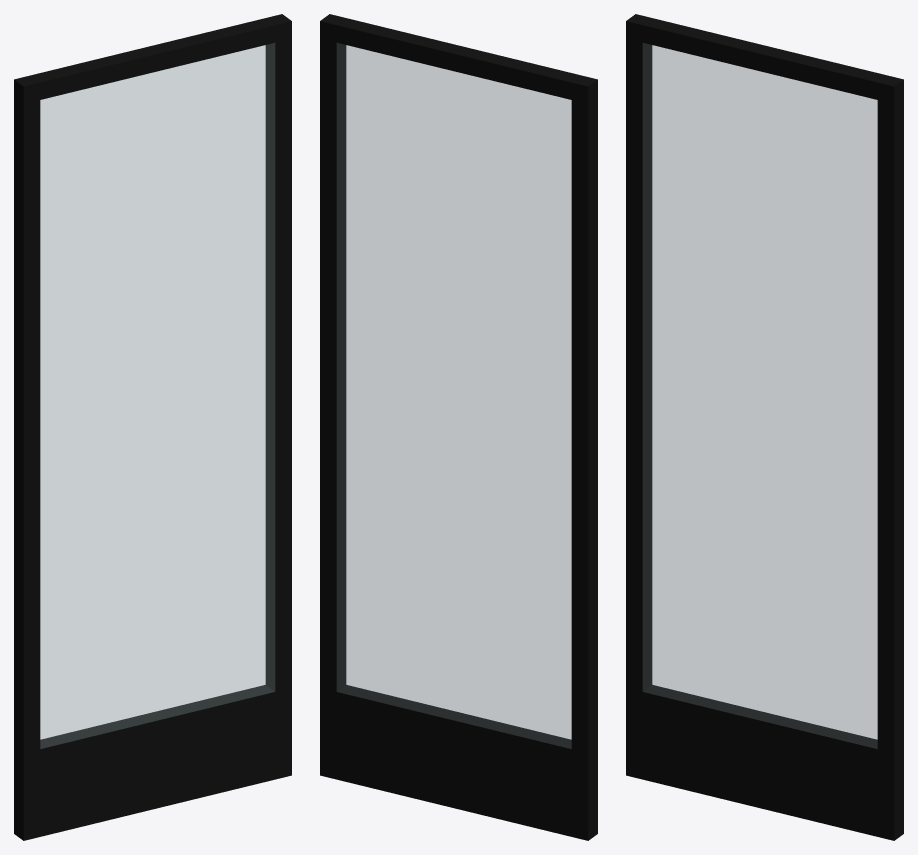
Rendered from coach_door.glb.
3 views of the same model, side by side, from view 1: azimuth 30°, elevation 25°; view 2: azimuth 150°, elevation 25°; view 3: azimuth 330°, elevation 25° (orthographic).
Parts seen in each view (by area): view 1: body:compound; view 2: body:compound; view 3: body:compound.
Part boxes in pixels (x1,y1,x2,y2): body:compound: (14, 14, 291, 840); body:compound: (320, 14, 597, 840); body:compound: (626, 14, 903, 840).
Size of the model in its own units: 1 by 2.69 by 0.0625.
